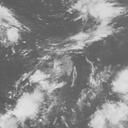cyclone: (34, 49, 76, 93)
